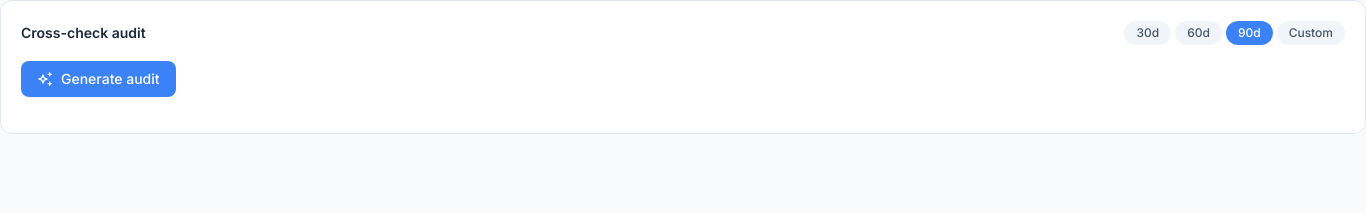
Test: CrossCheckAudit › generic error shows error banner
What coordinates should you click on to do the following:
click the button "Generate audit"
I would click on:
 (98, 79)
Its box is [21,61,176,97].
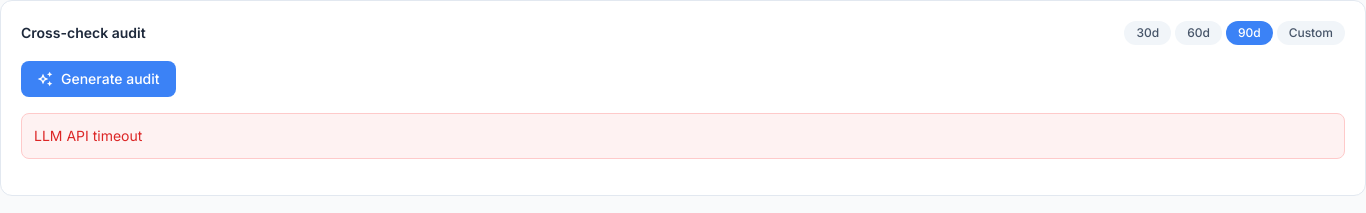
Expected: the text "LLM API timeout" is shown, [21,113,1345,159]
